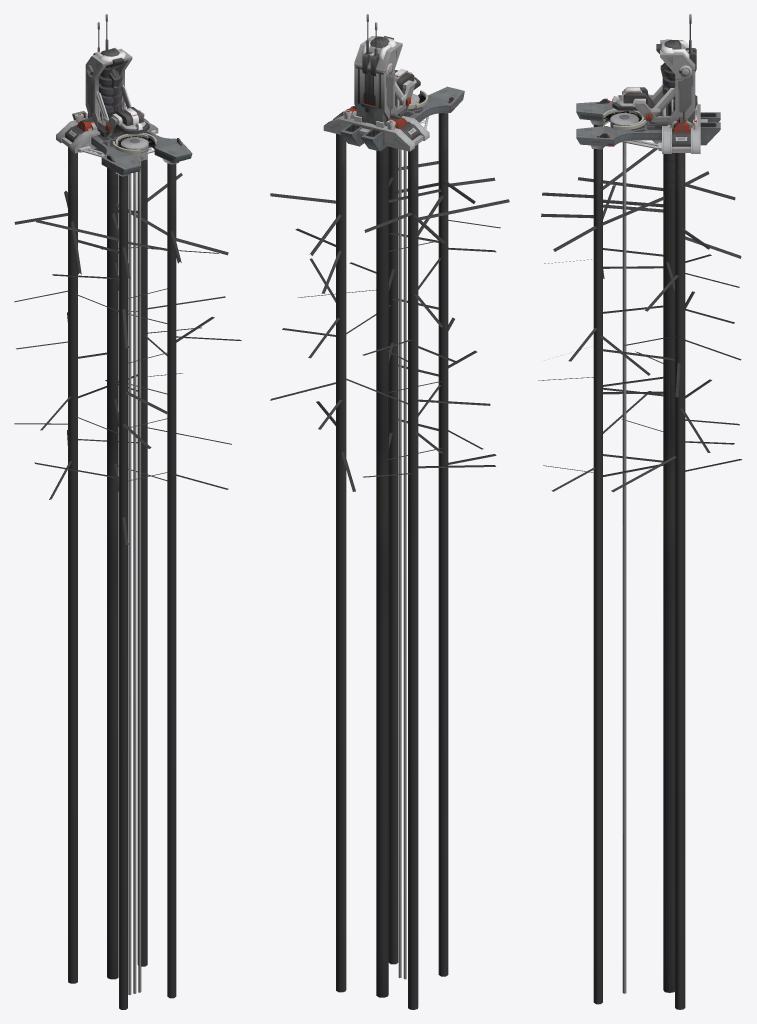
File: geothermal-power-station.glb
3 renders of one model, left to right at view 1: azimuth 30°, elevation 25°; view 2: azimuth 150°, elevation 25°; view 3: azimuth 270°, elevation 25°, orthographic. The views are drawn at different scales.
Visible parts, largest first — view 1: geothermal-power-station; view 2: geothermal-power-station; view 3: geothermal-power-station.
Part boxes in pixels (box(x1,y1,x2,y2)): geothermal-power-station: box(14, 14, 241, 1009); geothermal-power-station: box(270, 14, 509, 1009); geothermal-power-station: box(538, 14, 741, 1009).
Size of the model in its own units: 12.41 by 61.6 by 11.66.
Materials: 2 (2 with a texture image).
